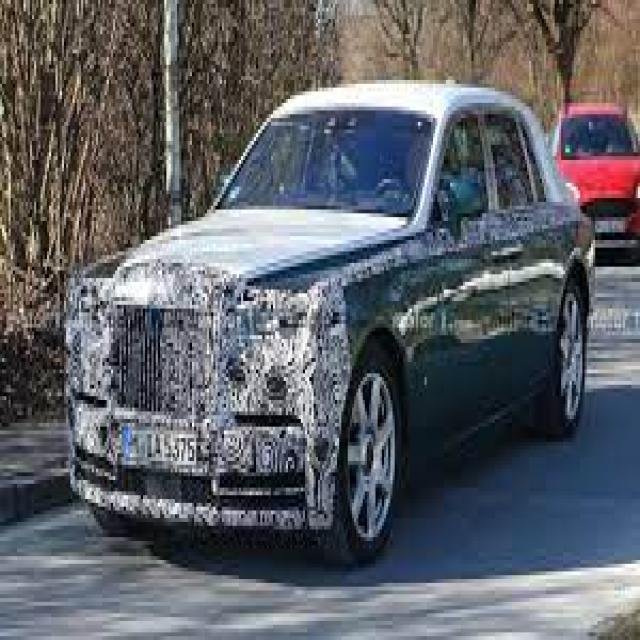car: (59, 74, 611, 578), (547, 92, 640, 258)
